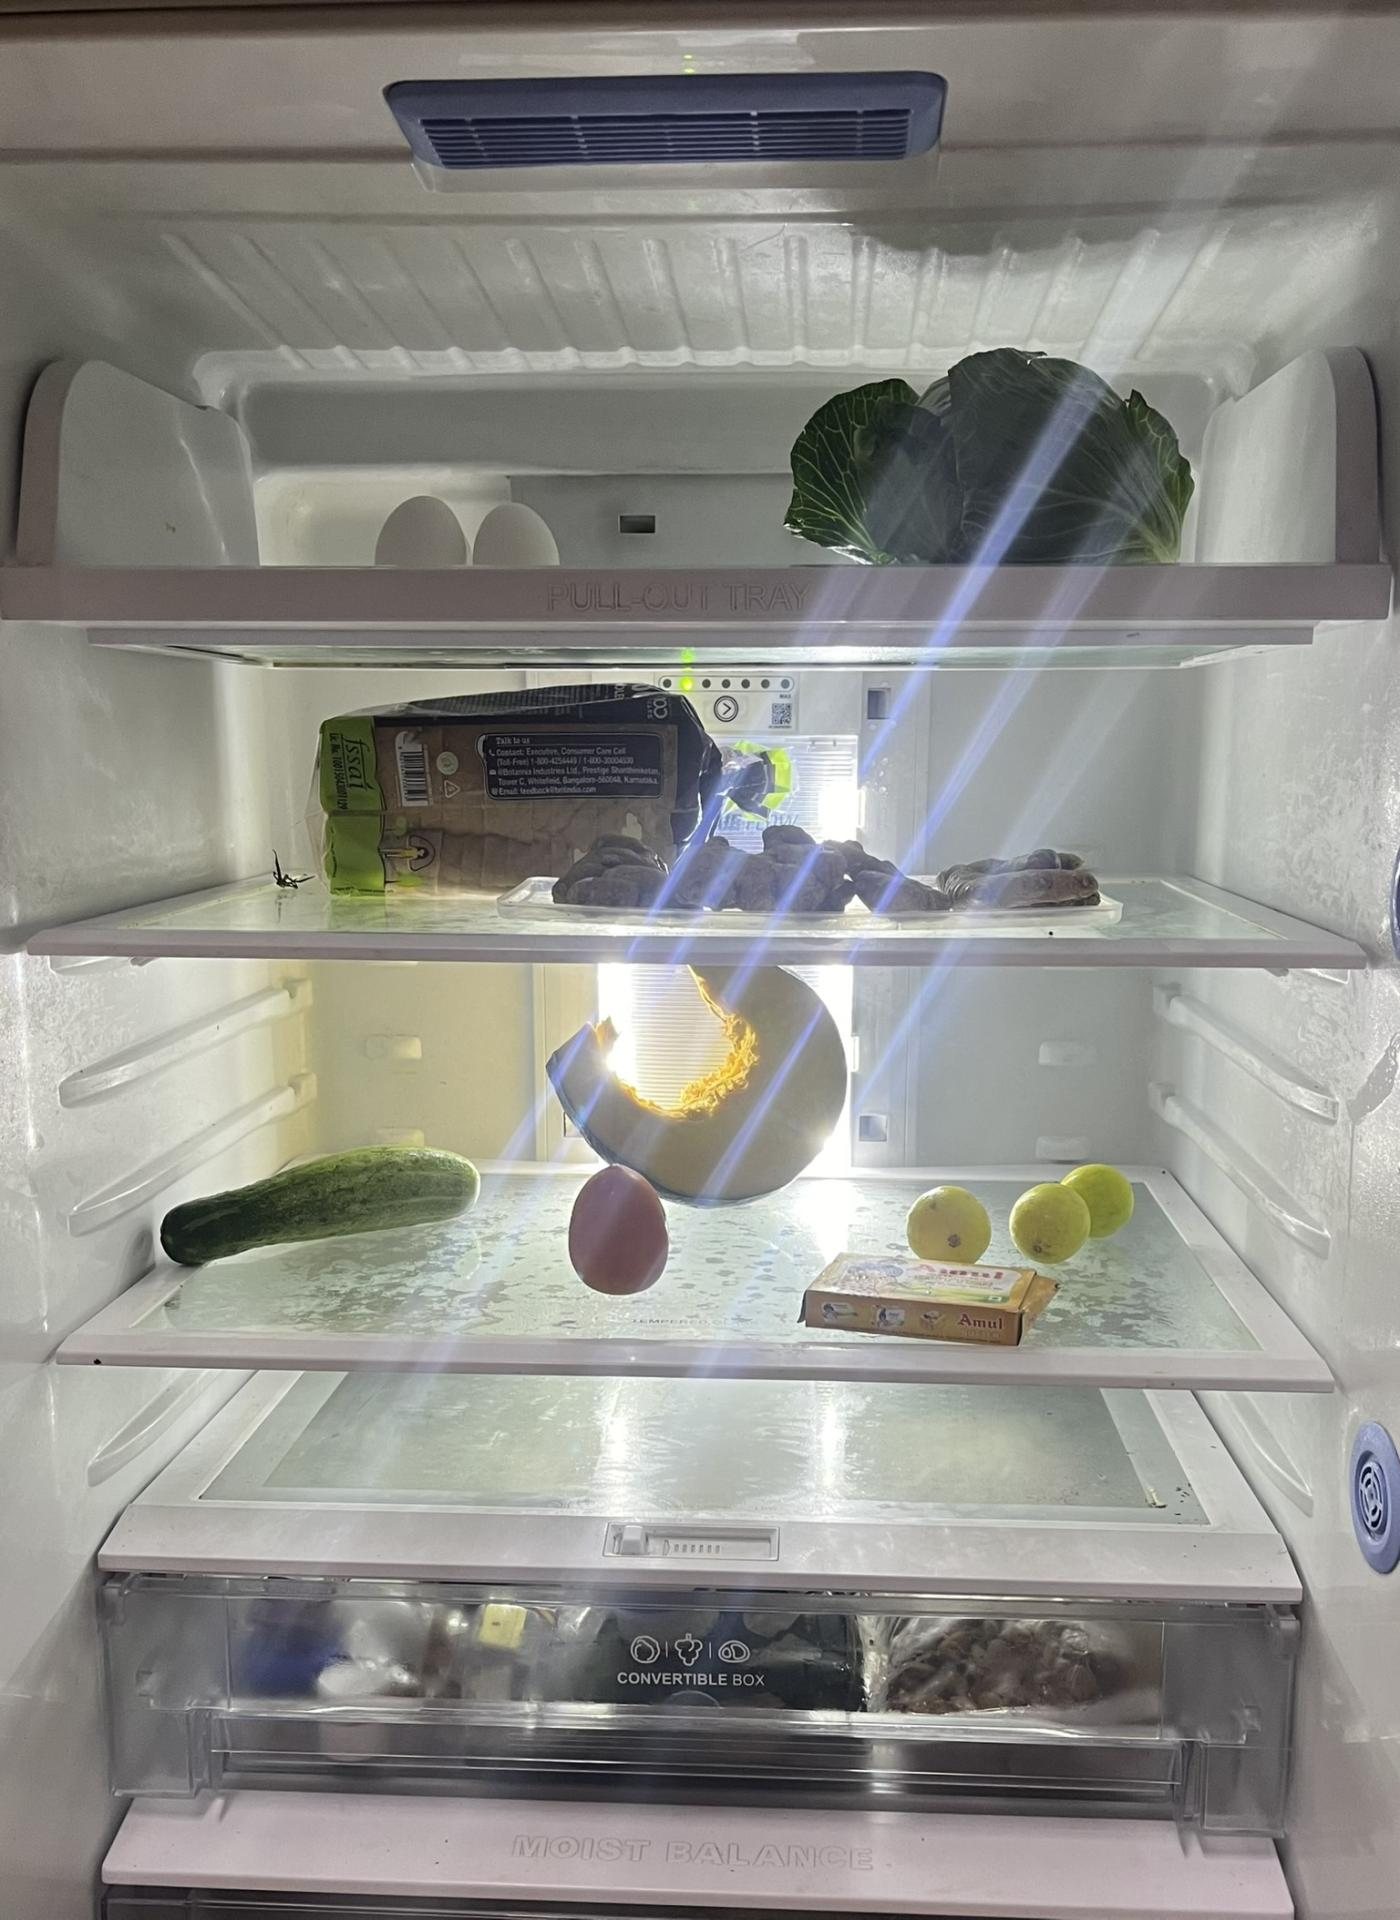bread: (307, 690, 801, 903)
butter: (811, 1251, 1048, 1337)
cabbage: (784, 341, 1194, 556)
cucumber: (143, 1142, 499, 1279)
egg: (362, 486, 570, 577)
ginger: (574, 832, 1103, 921)
lemon: (1012, 1160, 1130, 1249), (905, 1182, 1000, 1272)
pumpkin: (561, 963, 860, 1201)
tomato: (564, 1172, 674, 1297)
